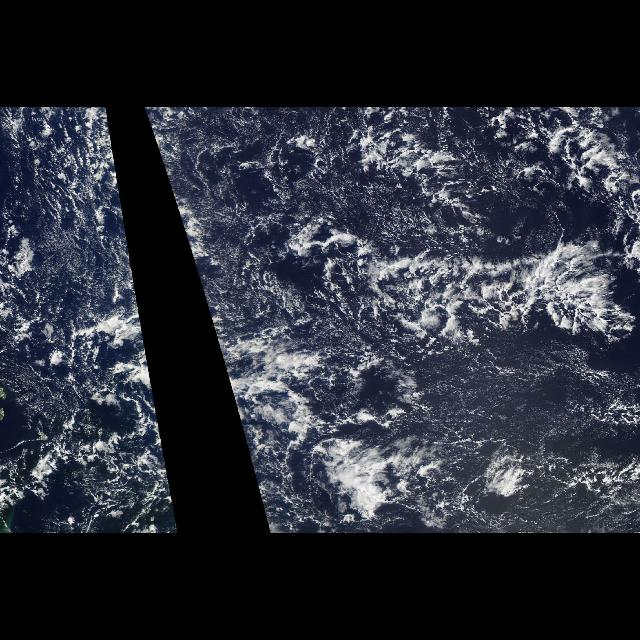Gravel: (143, 108, 593, 520), (8, 272, 176, 520), (0, 107, 132, 265)
Sugar: (366, 322, 640, 458)
